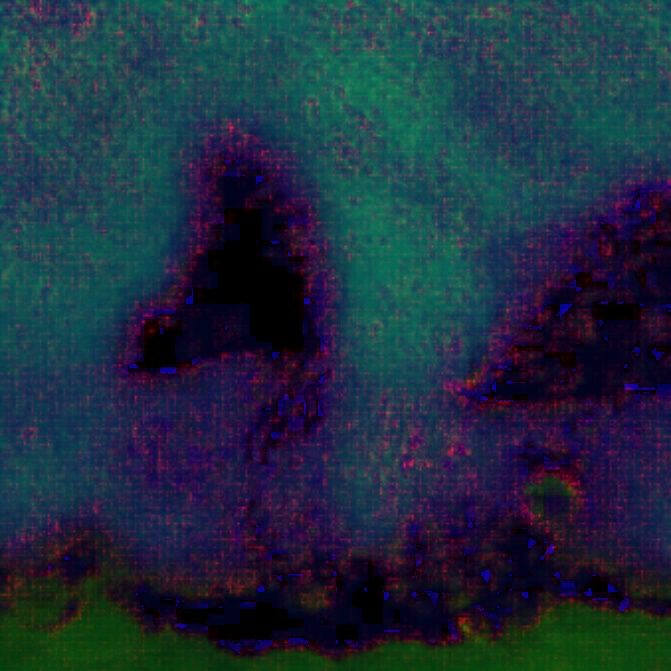rip_current: (265, 227, 566, 566)
